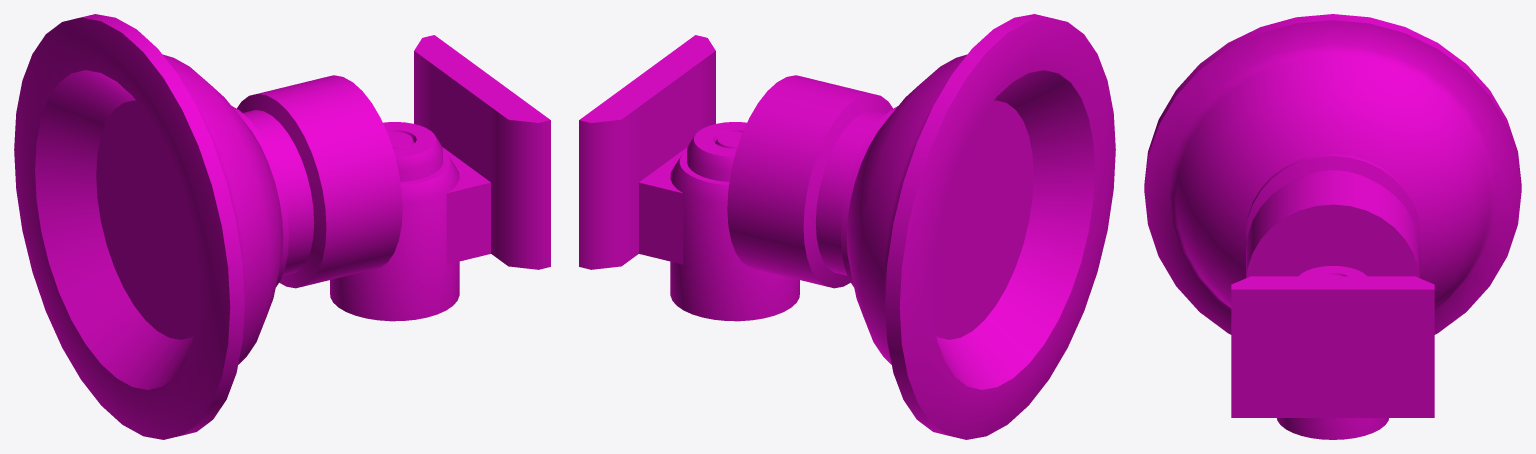
Rendered from Comp_Engine.fbx.
The picture shows the model from 3 angles, left to right: view 1: azimuth 30°, elevation 25°; view 2: azimuth 150°, elevation 25°; view 3: azimuth 270°, elevation 25°; orthographic projection. The views are drawn at different scales.
Parts seen in each view (by area): view 1: Cylinder.086, Cylinder.087, Cylinder.085; view 2: Cylinder.086, Cylinder.087, Cylinder.085; view 3: Cylinder.086, Cylinder.087, Cylinder.085.
Boxes of the visible parts, x1,y1,x2,y2 form: Cylinder.086: (14, 14, 283, 439); Cylinder.087: (330, 35, 550, 321); Cylinder.085: (232, 75, 402, 288); Cylinder.086: (846, 14, 1115, 439); Cylinder.087: (579, 35, 799, 321); Cylinder.085: (727, 75, 897, 288); Cylinder.086: (1144, 14, 1521, 334); Cylinder.087: (1231, 266, 1434, 439); Cylinder.085: (1246, 153, 1419, 277).
Size of the model in its own units: 448 by 447 by 447.
